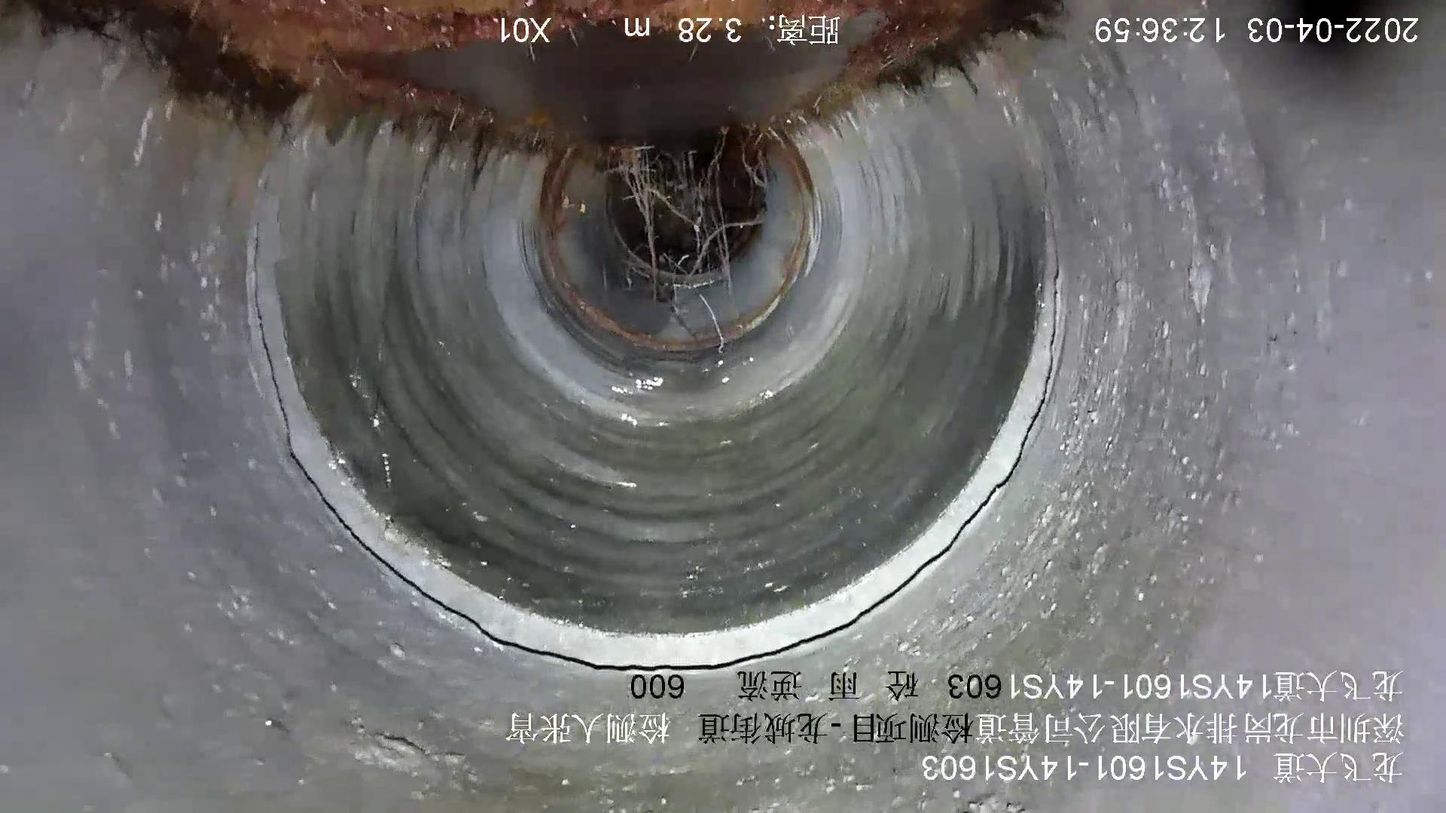CJ: (150, 1, 978, 84)
CKTJ: (246, 222, 1065, 673), (544, 126, 812, 351)
SG: (598, 131, 779, 307)
